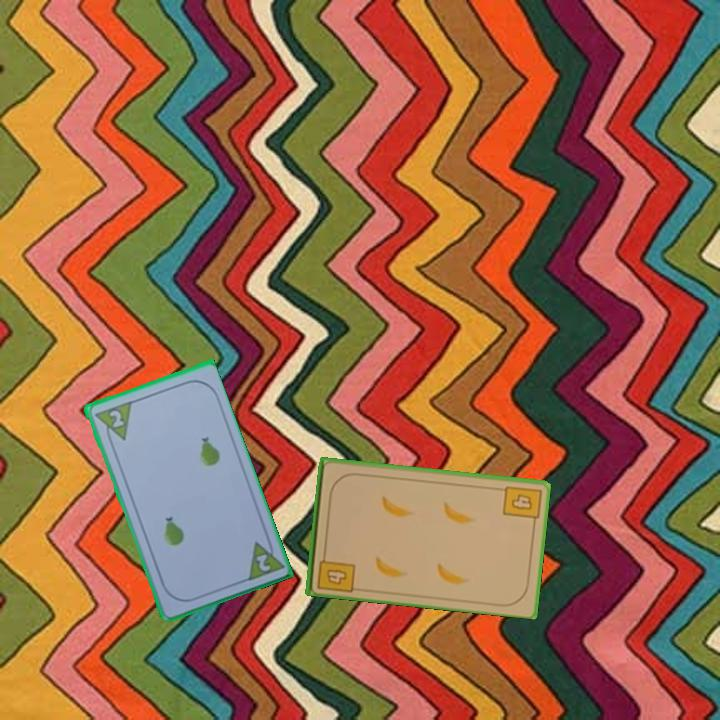2p: (90, 398, 134, 447), (252, 550, 273, 574)
4b: (313, 547, 357, 595), (499, 482, 543, 528)
